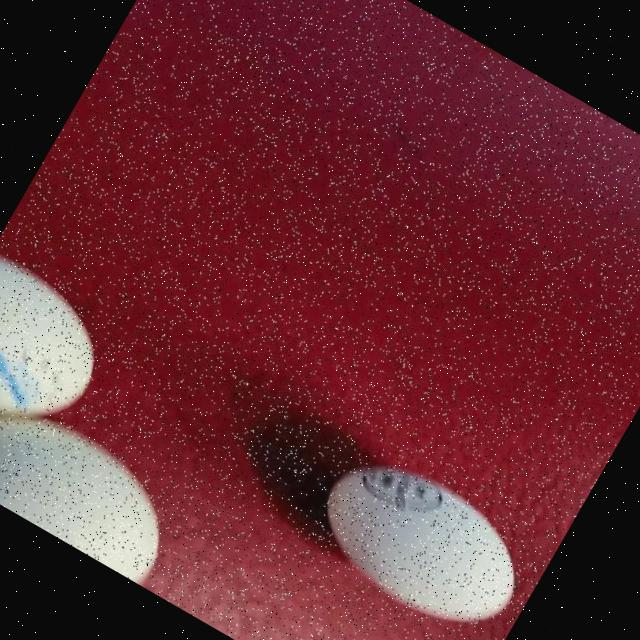ping-pong-ball: (256, 414, 561, 640), (0, 346, 226, 604), (0, 232, 144, 480)
